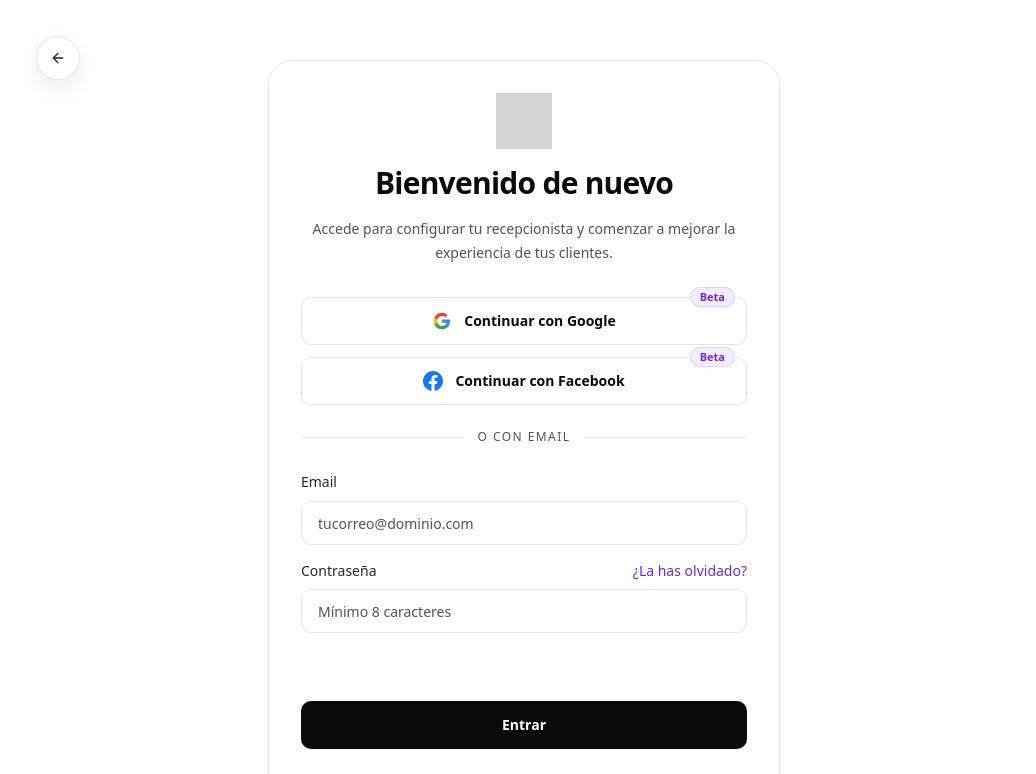
Test: LoginPage › muestra un error genérico si el backend responde con otro código
In the field with placeholder "tucorreo@dominio.com": (524, 523) top-left (301, 501), bottom-right (747, 545), type "ana@example.com"
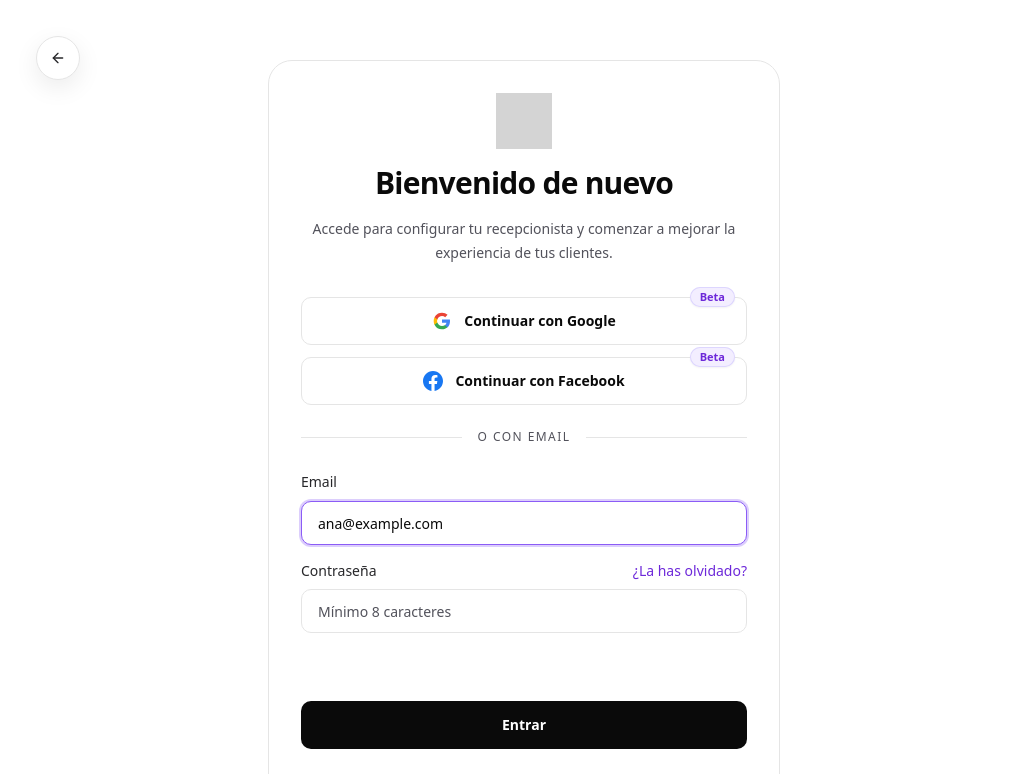
In the password field with placeholder "Mínimo 8 caracteres": (524, 611) top-left (301, 589), bottom-right (747, 633), type "wrong"
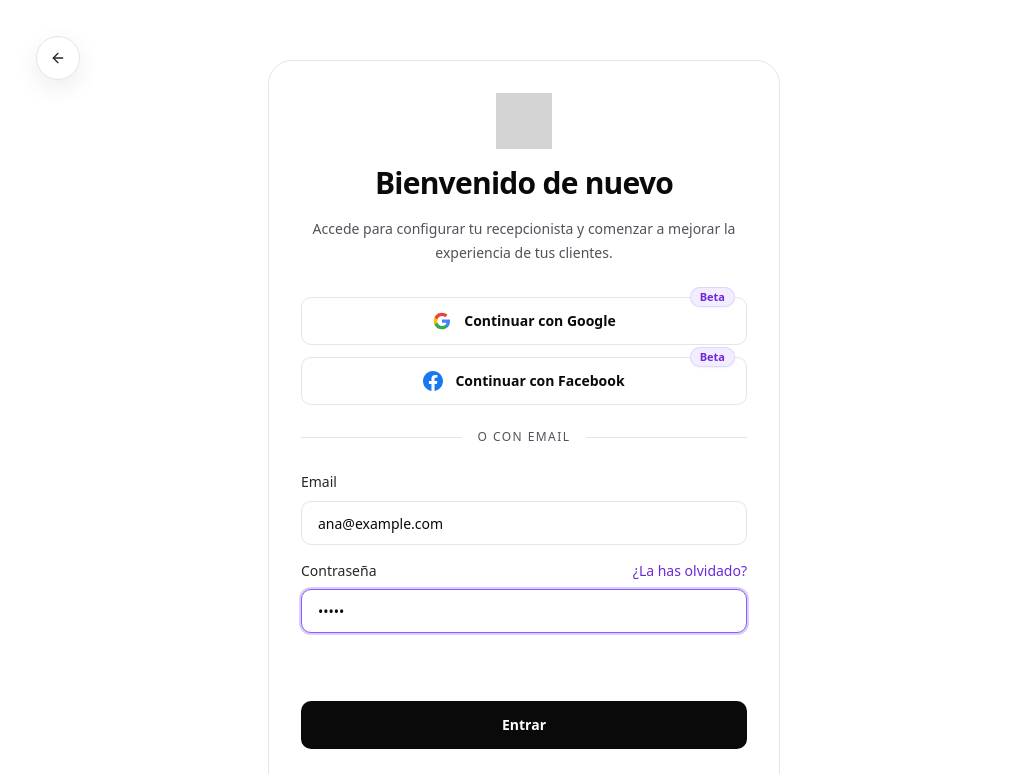
Click the button "Entrar": (524, 725) top-left (301, 701), bottom-right (747, 749)
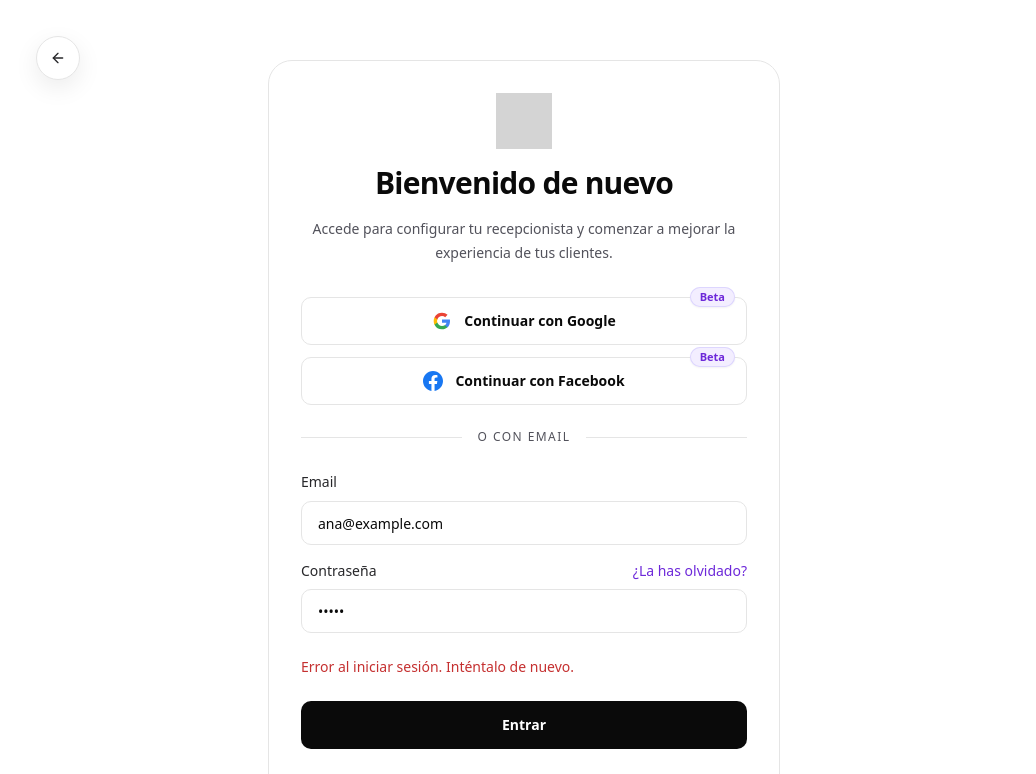
Expected: the text "Error al iniciar sesión. Inténtalo de nuevo." is shown, top-left (301, 657), bottom-right (574, 676)
